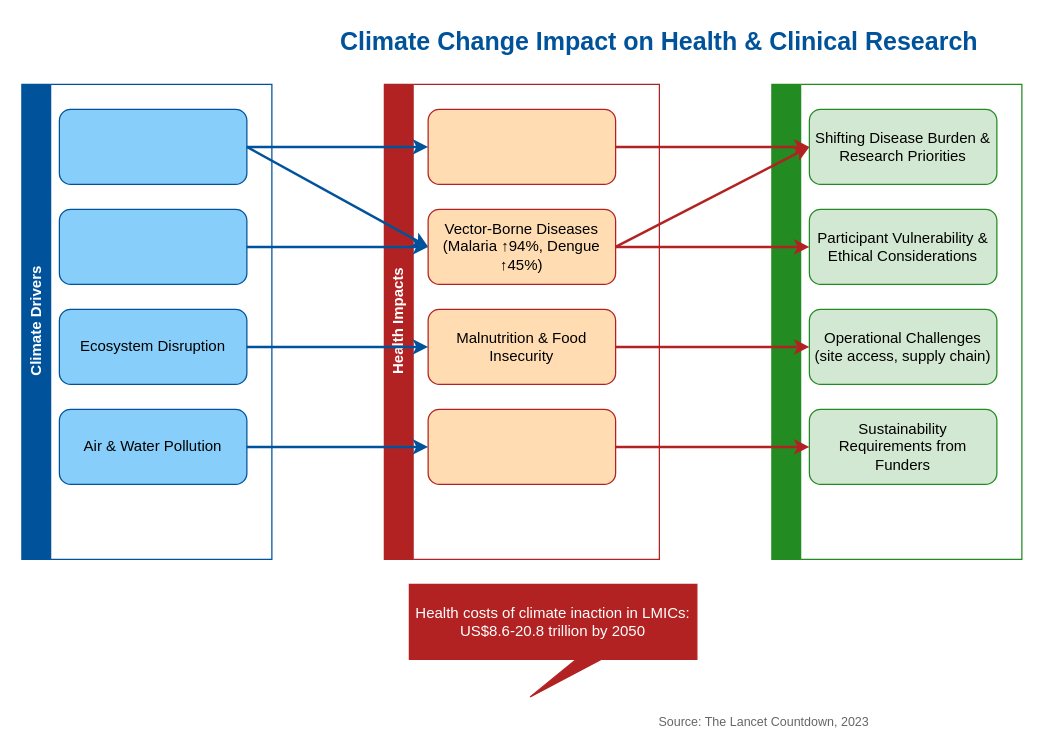
Some shapes in this 1056 by 755 pixel diagram are drawn without their labels. The box of each missing label's shape, as (x1, y1, x2, y2) in pixels:
Clinical Research Implications: (771, 83, 1022, 559)
Extreme Weather Events: (58, 208, 247, 284)
Heat-Related Mortality (↑55% in seniors): (427, 108, 616, 184)
Respiratory Conditions (10,000+ deaths/year): (427, 408, 616, 484)
Rising Temperatures: (58, 108, 247, 184)
